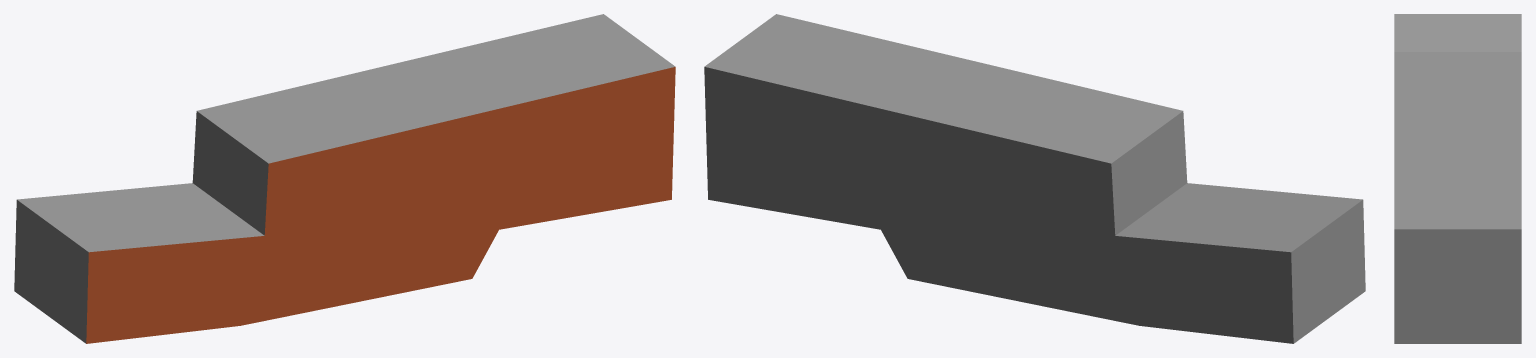
The model's file is construction_5180_assumed_A_Casa_h6m.obj.
The picture shows the model from 3 angles, left to right: view 1: azimuth 30°, elevation 25°; view 2: azimuth 150°, elevation 25°; view 3: azimuth 270°, elevation 25°; orthographic projection. The views are drawn at different scales.
Visible parts, largest first — view 1: construction_5180_assumed_A_Casa; view 2: construction_5180_assumed_A_Casa; view 3: construction_5180_assumed_A_Casa.
Boxes of the visible parts, x1=… form: construction_5180_assumed_A_Casa: x1=14, y1=14, x2=675, y2=343; construction_5180_assumed_A_Casa: x1=704, y1=14, x2=1365, y2=343; construction_5180_assumed_A_Casa: x1=1394, y1=14, x2=1521, y2=343.
Bounding box in the file's own units: 28.33 × 7.58 × 6.
